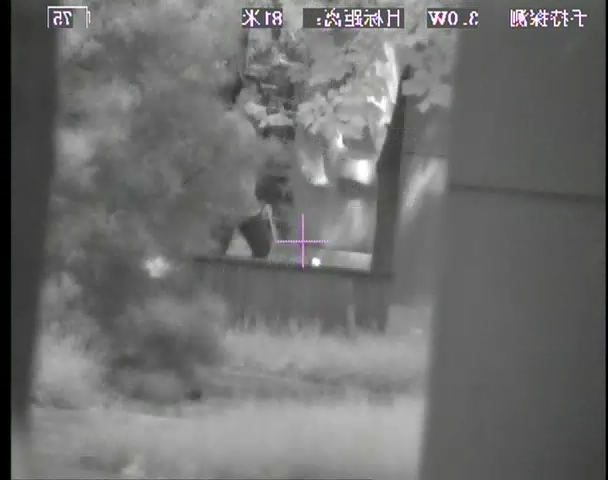my: (311, 256, 321, 267)
